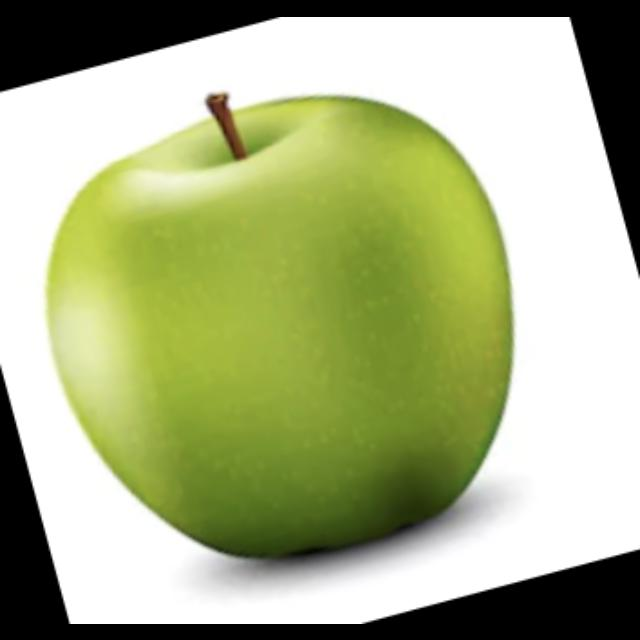Apel Segar: (45, 98, 529, 594)
